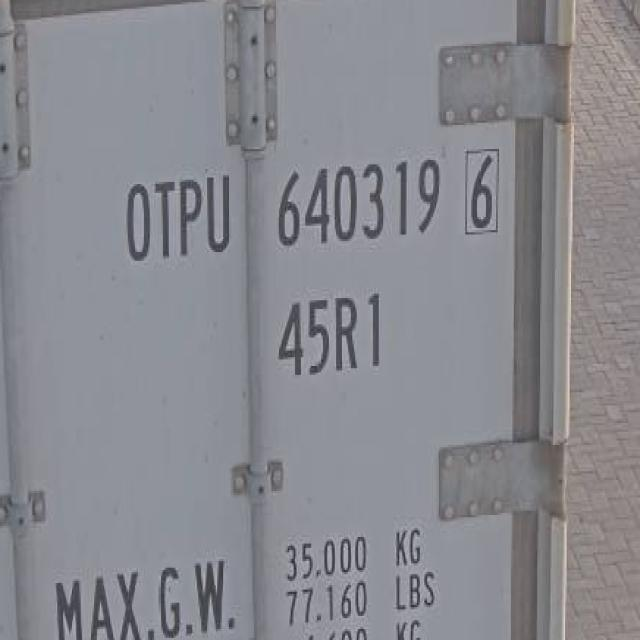dv: (453, 134, 504, 244)
owner: (119, 160, 242, 268)
serial: (268, 144, 445, 258)
size: (270, 283, 392, 384)
